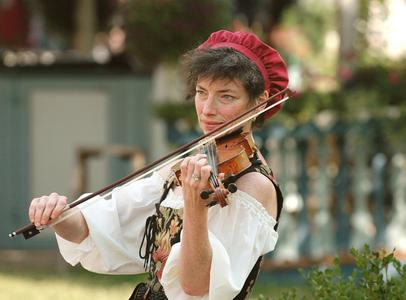person: (30, 30, 287, 300)
